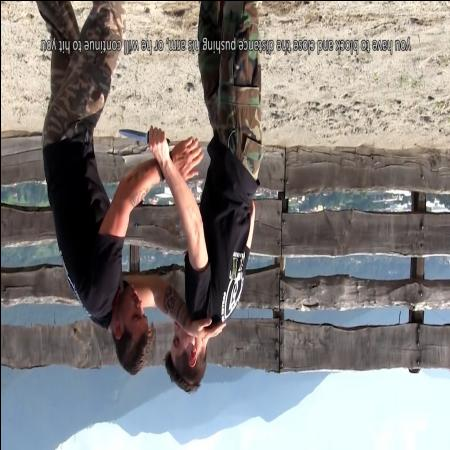long weapon: (114, 122, 170, 152)
